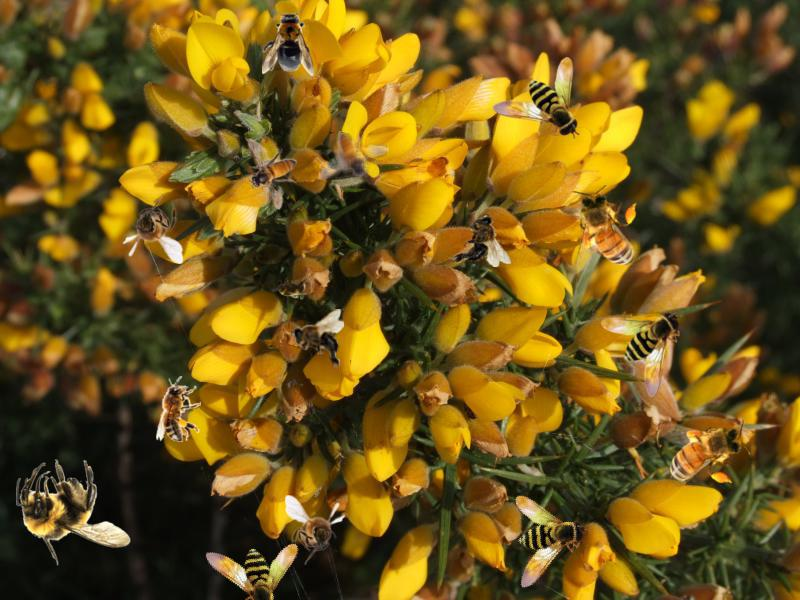Bee: (478, 486, 594, 600), (16, 459, 131, 566), (190, 509, 308, 600), (601, 310, 683, 398), (492, 57, 580, 139), (572, 185, 640, 278), (657, 419, 750, 487), (285, 495, 346, 565), (122, 194, 183, 264), (318, 131, 389, 181), (247, 139, 297, 210), (262, 8, 314, 76), (449, 214, 511, 267), (291, 309, 344, 371), (156, 376, 201, 442), (271, 277, 311, 299)
